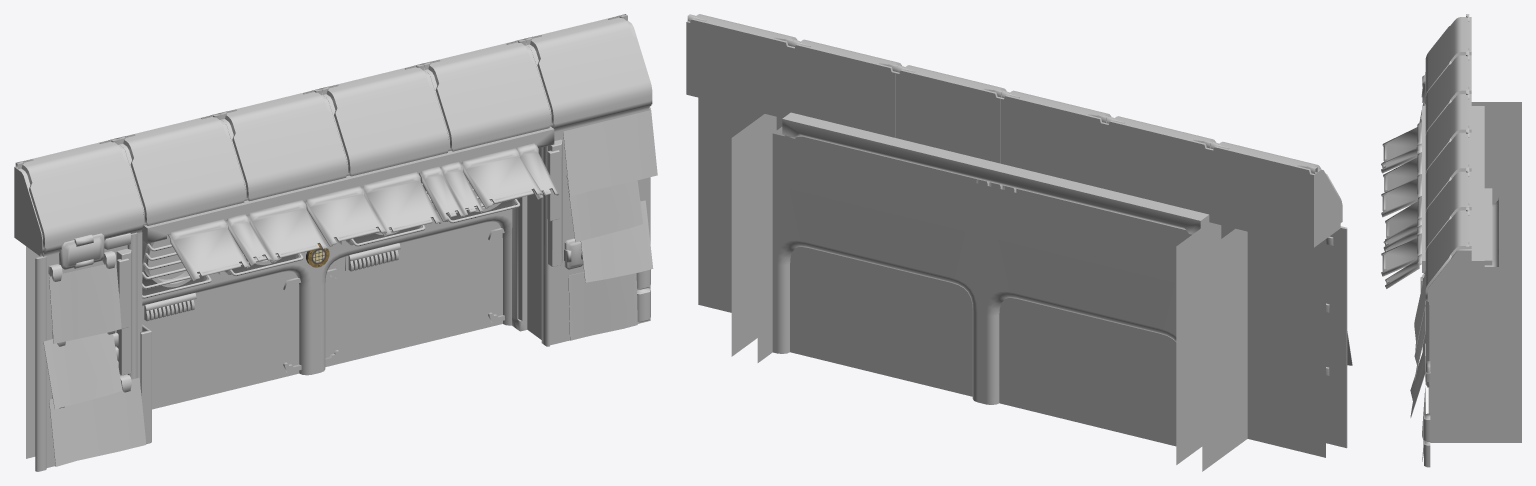
The model's file is Wall_Assembled_02.fbx.
3 views of the same model, side by side, from view 1: azimuth 30°, elevation 25°; view 2: azimuth 150°, elevation 25°; view 3: azimuth 270°, elevation 25° (orthographic). The views are drawn at different scales.
Parts seen in each view (by area): view 1: Door_01.002, Door_01.001, Panel_04.006, Panel_04.005, Panel_04.002, Panel_04.003, Panel_04.001, Panel_04.004, Wall_02.010, Wall_02.008, Trim_02.006, Wall_02.007 (+32 smaller); view 2: Wall_07_Door.004, Wall_07_Door.003, Door_01.002, Wall_02.003, Door_01.001, Wall_02.014, Panel_04.006, Wall_02.120, Trim_02.004, Panel_04.005, Panel_04.001, Panel_04.003 (+4 smaller); view 3: Wall_02.120, Wall_02.014, Panel_04.005, Trim_02.004, Panel_04.002, Panel_04.001, Panel_04.006, Panel_04.004, Panel_04.003, Shade_Flat.007, Shade_Flat.009, Shade_Flat.010 (+15 smaller).
Part boxes in pixels (x1=…): Door_01.002: x1=325, y1=221, x2=502, y2=366; Door_01.001: x1=142, y1=271, x2=299, y2=409; Panel_04.006: x1=14, y1=138, x2=143, y2=256; Panel_04.005: x1=524, y1=14, x2=652, y2=132; Panel_04.002: x1=219, y1=88, x2=347, y2=201; Panel_04.003: x1=321, y1=63, x2=448, y2=176; Panel_04.001: x1=117, y1=113, x2=245, y2=225; Panel_04.004: x1=422, y1=39, x2=550, y2=151; Wall_02.010: x1=563, y1=110, x2=657, y2=196; Wall_02.008: x1=49, y1=377, x2=146, y2=466; Trim_02.006: x1=141, y1=126, x2=554, y2=243; Wall_02.007: x1=49, y1=262, x2=121, y2=343; Wall_07_Door.004: x1=772, y1=133, x2=996, y2=403; Wall_07_Door.003: x1=982, y1=184, x2=1191, y2=404; Door_01.002: x1=790, y1=247, x2=972, y2=396; Wall_02.003: x1=1221, y1=225, x2=1341, y2=457; Door_01.001: x1=999, y1=298, x2=1176, y2=446; Wall_02.014: x1=1176, y1=222, x2=1247, y2=471; Panel_04.006: x1=1209, y1=141, x2=1342, y2=247; Wall_02.120: x1=731, y1=114, x2=784, y2=362; Trim_02.004: x1=782, y1=112, x2=1209, y2=234; Panel_04.005: x1=686, y1=14, x2=797, y2=117; Panel_04.001: x1=1104, y1=116, x2=1215, y2=214; Panel_04.003: x1=895, y1=65, x2=1006, y2=163; Wall_02.120: x1=1430, y1=267, x2=1521, y2=442; Wall_02.014: x1=1471, y1=102, x2=1521, y2=266; Panel_04.005: x1=1425, y1=208, x2=1471, y2=305; Trim_02.004: x1=1471, y1=106, x2=1484, y2=272; Panel_04.002: x1=1425, y1=91, x2=1471, y2=173; Panel_04.001: x1=1425, y1=52, x2=1471, y2=135; Panel_04.006: x1=1425, y1=14, x2=1471, y2=96; Panel_04.004: x1=1425, y1=169, x2=1471, y2=251; Panel_04.003: x1=1425, y1=130, x2=1471, y2=212; Shade_Flat.007: x1=1381, y1=174, x2=1421, y2=217; Shade_Flat.009: x1=1381, y1=233, x2=1421, y2=276; Shade_Flat.010: x1=1382, y1=122, x2=1421, y2=162.
Size of the model in its own units: 12.11 by 5.42 by 3.07.
